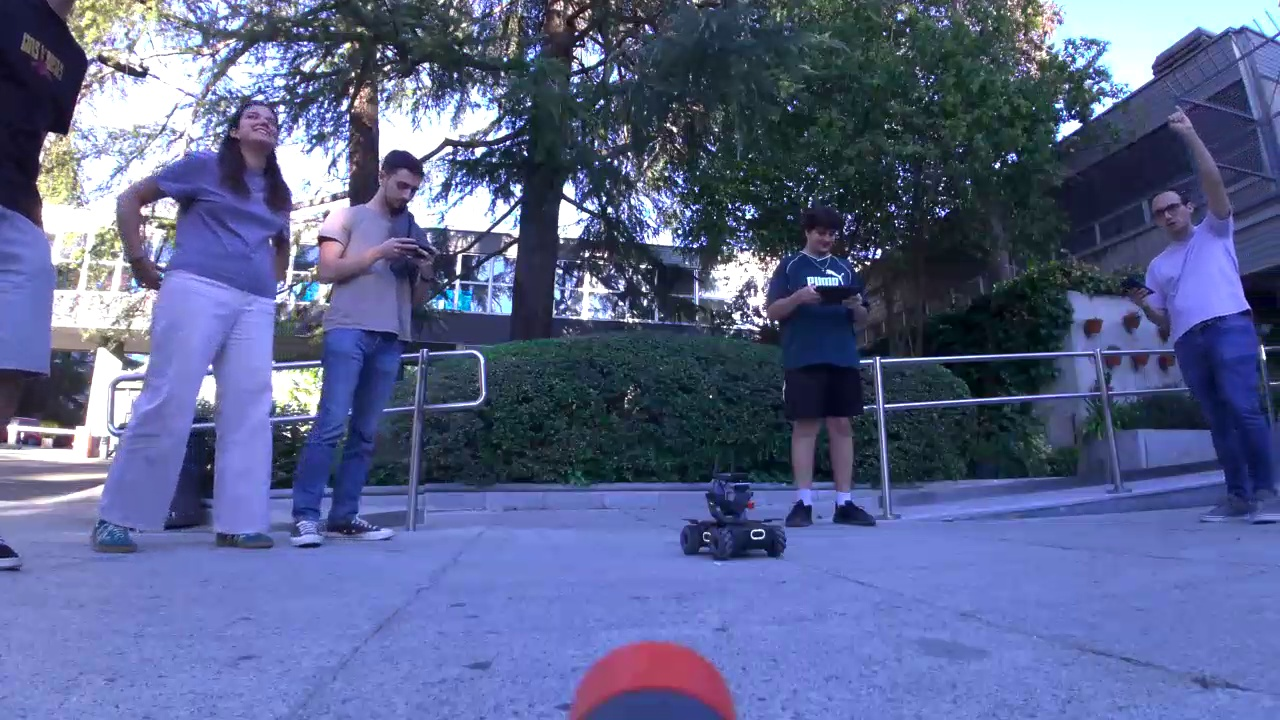robot: (675, 481, 798, 572)
